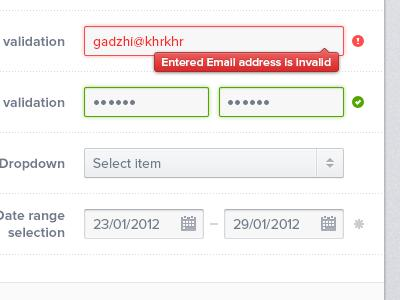error_field: (83, 26, 345, 57)
error_message: (160, 55, 332, 69)
